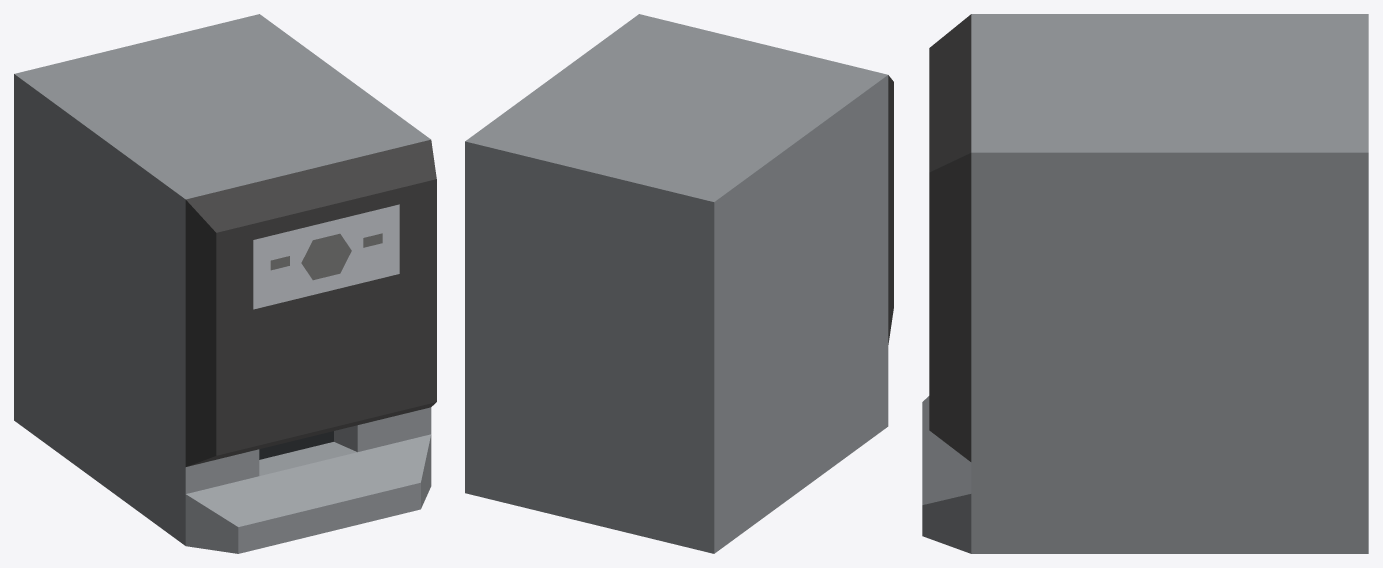
File: Wedge.obj
The picture shows the model from 3 angles, left to right: view 1: azimuth 30°, elevation 25°; view 2: azimuth 150°, elevation 25°; view 3: azimuth 270°, elevation 25°; orthographic projection. The views are drawn at different scales.
Bounding box in the file's own units: 0.3113 × 0.42 × 0.4232.
1 material, 1 textured.
